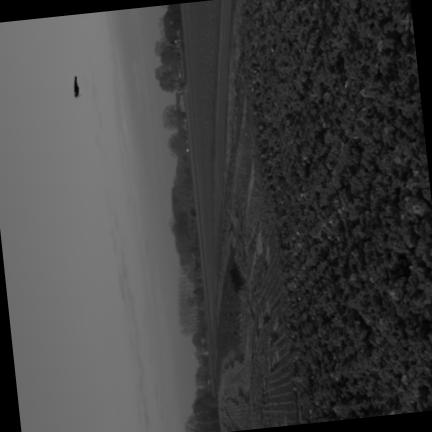Shahed: (74, 76, 79, 96)
